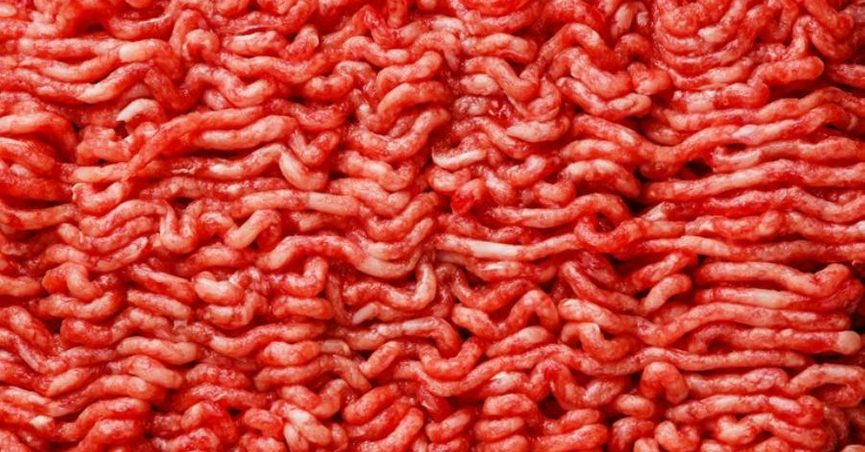ground_beef: (1, 7, 857, 446)
